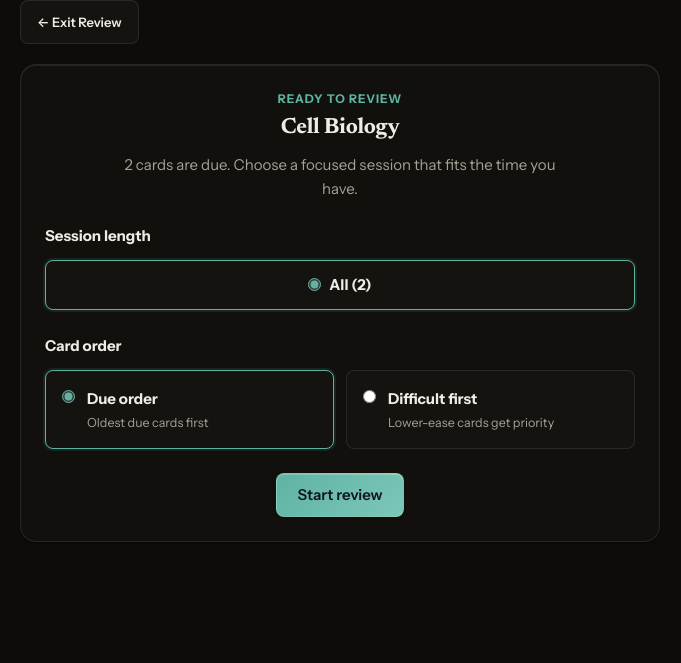
Test case: ReviewView › grades the card, saves the SM-2 state, and advances to the next one
Click the button "Start review" at (340, 495), box [276,473,404,517]
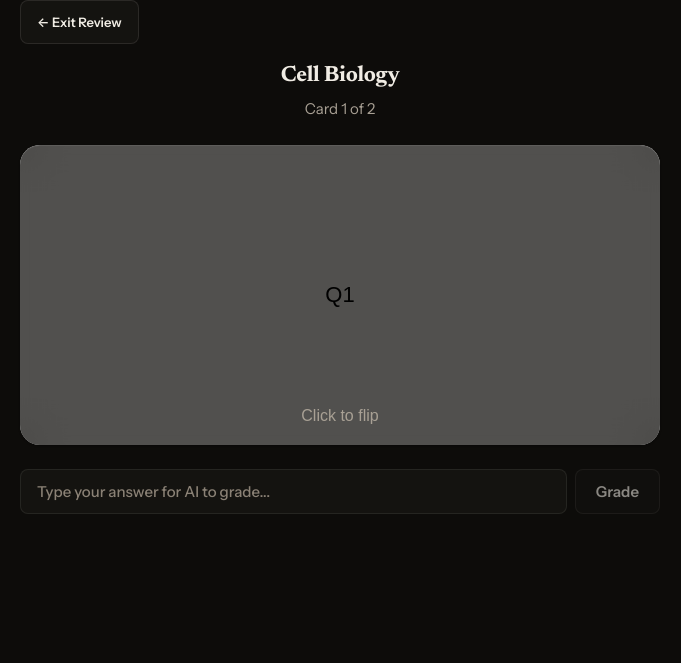
Result: the text "Q1" is shown at [325,282,355,308]
Click the button with aria-label "Flip card to see the answer" at (340, 295), box [20,145,660,445]
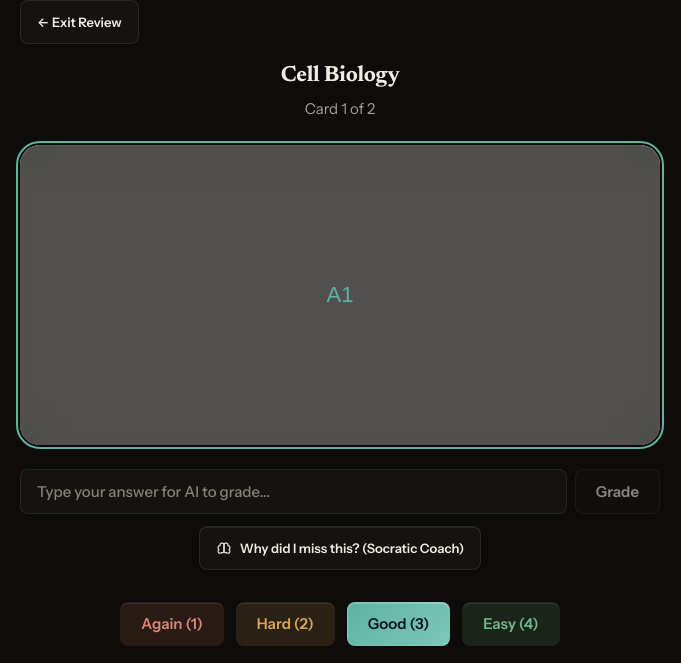
Click the button "Good (3)" at (399, 624), box [347,602,450,646]
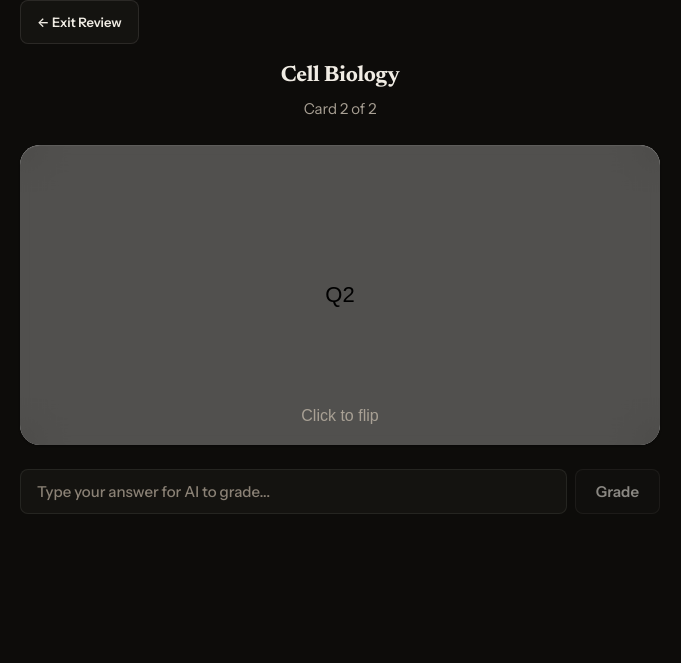
Result: the text "Q2" is shown at [325,282,355,308]
Result: the text "Card 2 of 2" is shown at [304,99,376,118]
